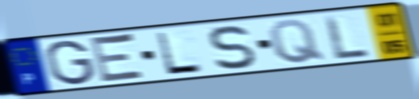E: (88, 31, 149, 85)
G: (43, 39, 97, 87)
L: (322, 13, 372, 62), (154, 30, 207, 76)
Q: (266, 18, 328, 65)
S: (208, 24, 259, 72)
